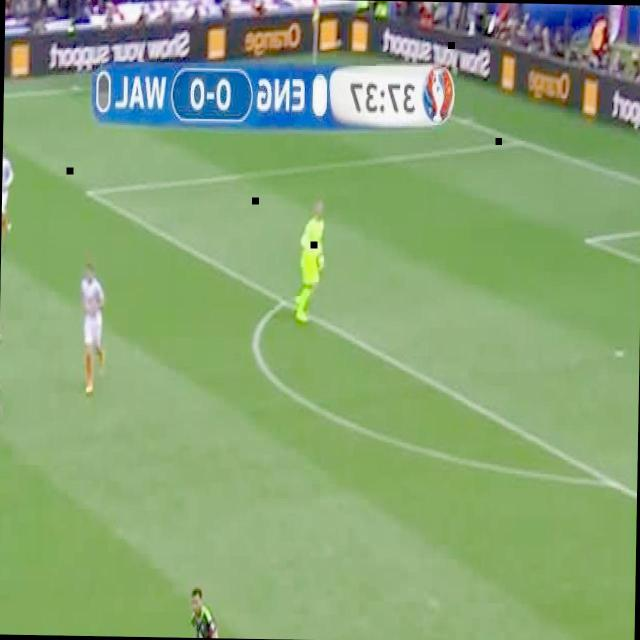player-white: (79, 260, 109, 396), (294, 202, 326, 324), (190, 582, 252, 638), (1, 143, 15, 255), (0, 293, 6, 423)
